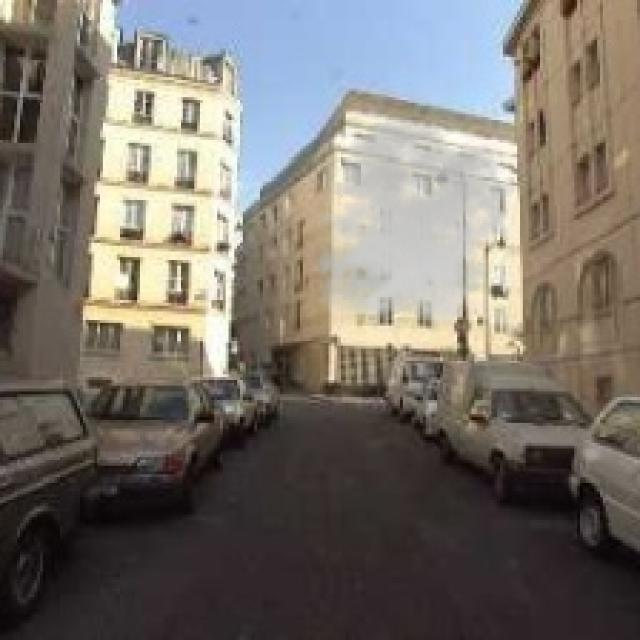Smoke: (302, 117, 518, 332)
